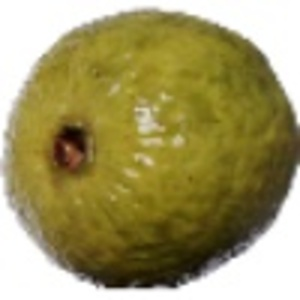goiaba: (2, 6, 295, 295)
